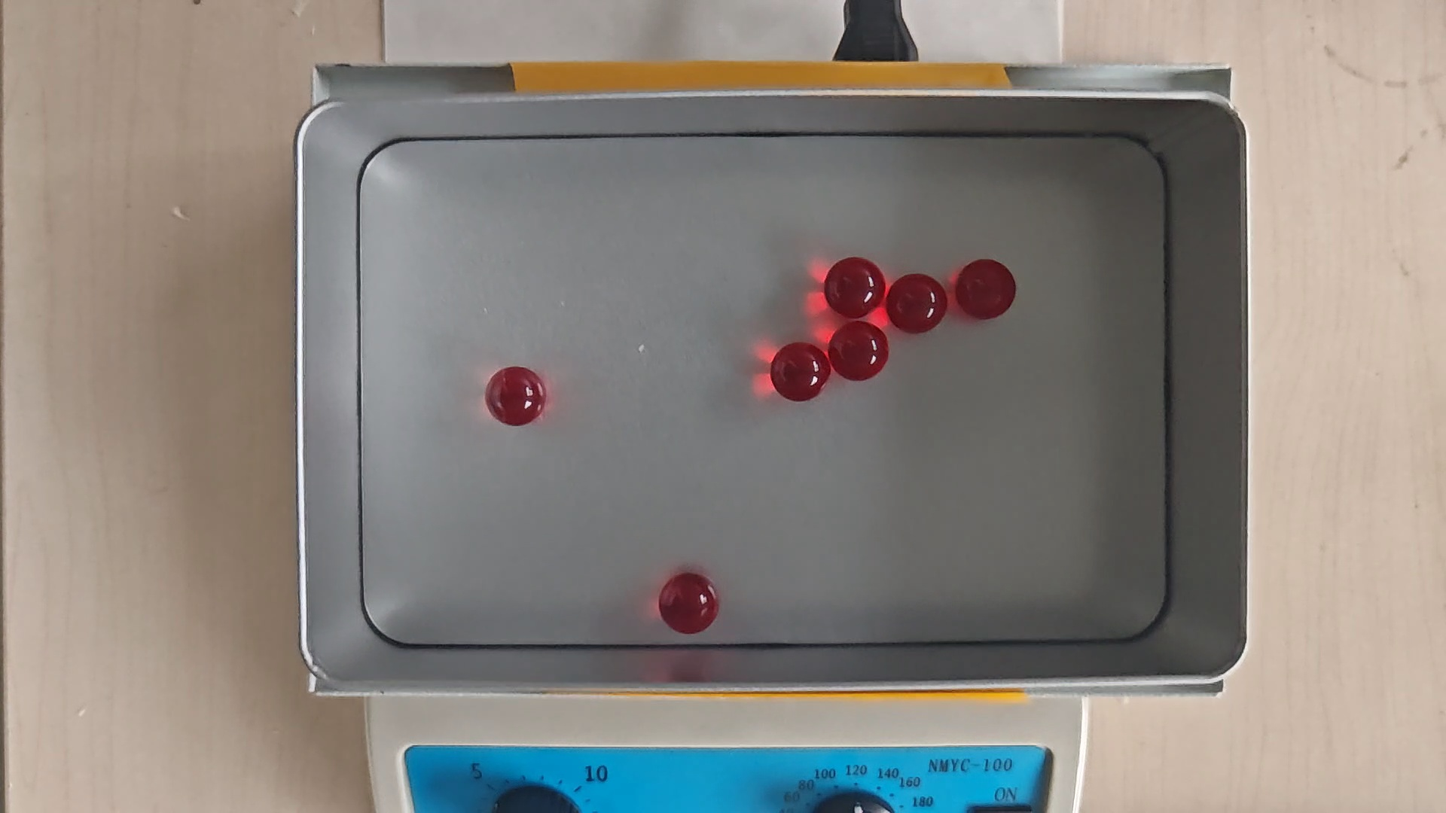ball: (659, 572, 720, 635), (826, 255, 885, 318), (889, 272, 947, 335), (771, 341, 830, 402), (956, 259, 1016, 318), (487, 367, 545, 428), (832, 321, 888, 379)
container: (355, 130, 1168, 645)
